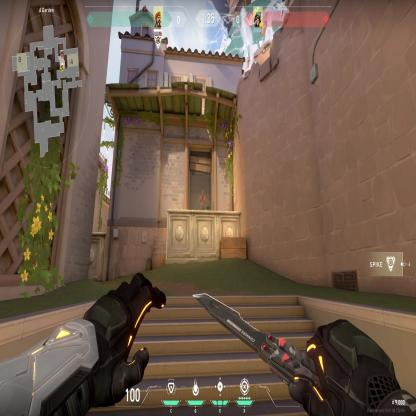enemy: (199, 188, 207, 214)
